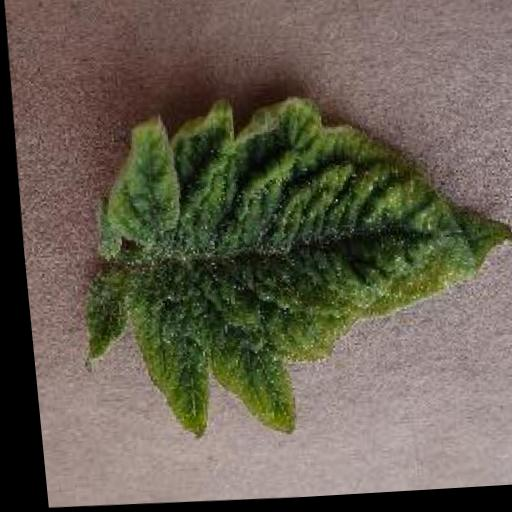Yellow Leaf Curl Virus: (58, 86, 512, 449)
